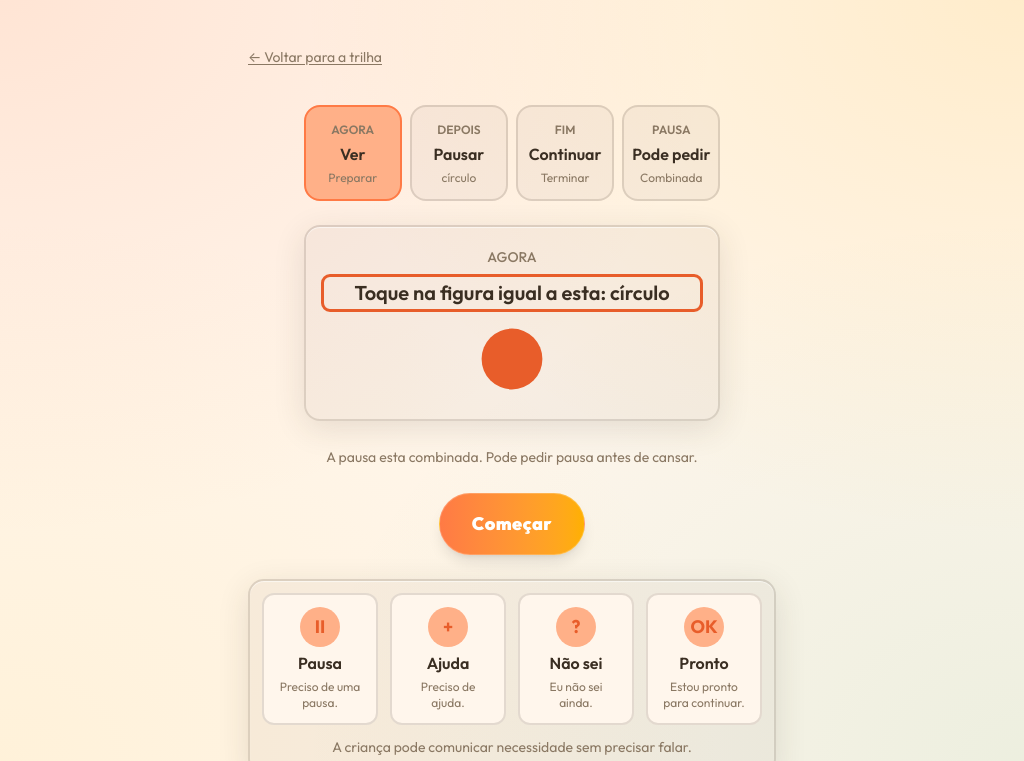
Test case: Atividade › aumenta a ajuda visual quando a crianca pede ajuda
Click the button "Começar": x=512, y=524 x1=439 y1=493 x2=585 y2=555
(page scrolled)
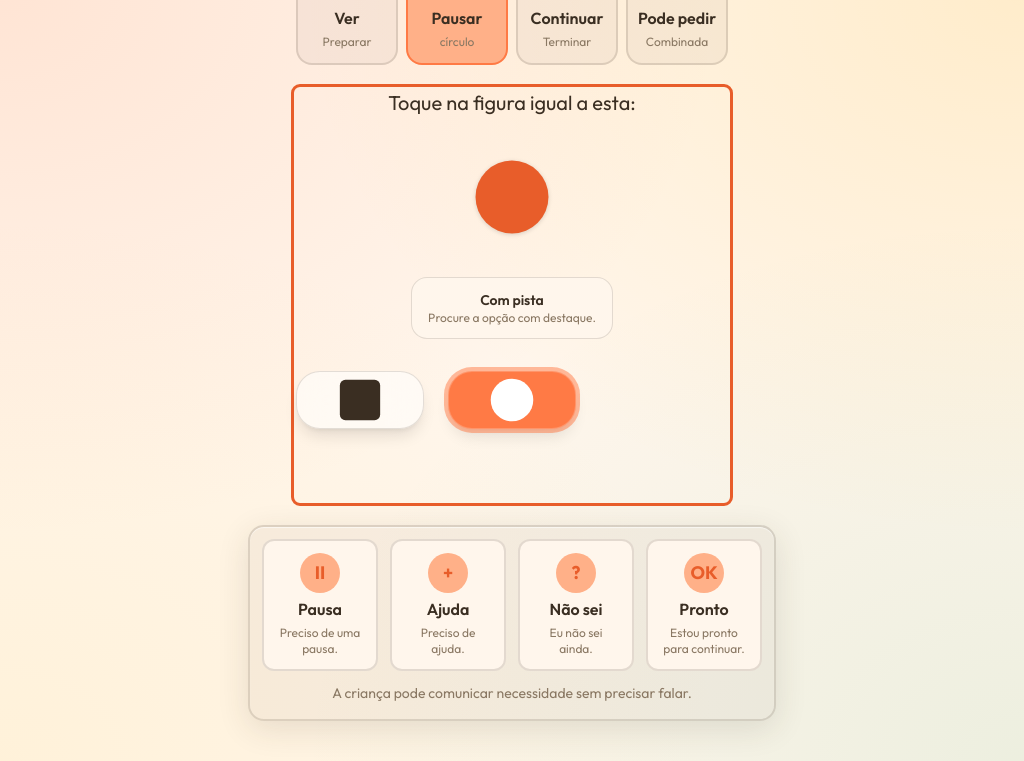
Expected: the text "Escolha esta" is not shown
Expected: the button named "círculo" is shown, x1=448 y1=371 x2=576 y2=429
Click the button named "Ajuda. Preciso de ajuda.": x=448, y=605 x1=390 y1=539 x2=506 y2=671
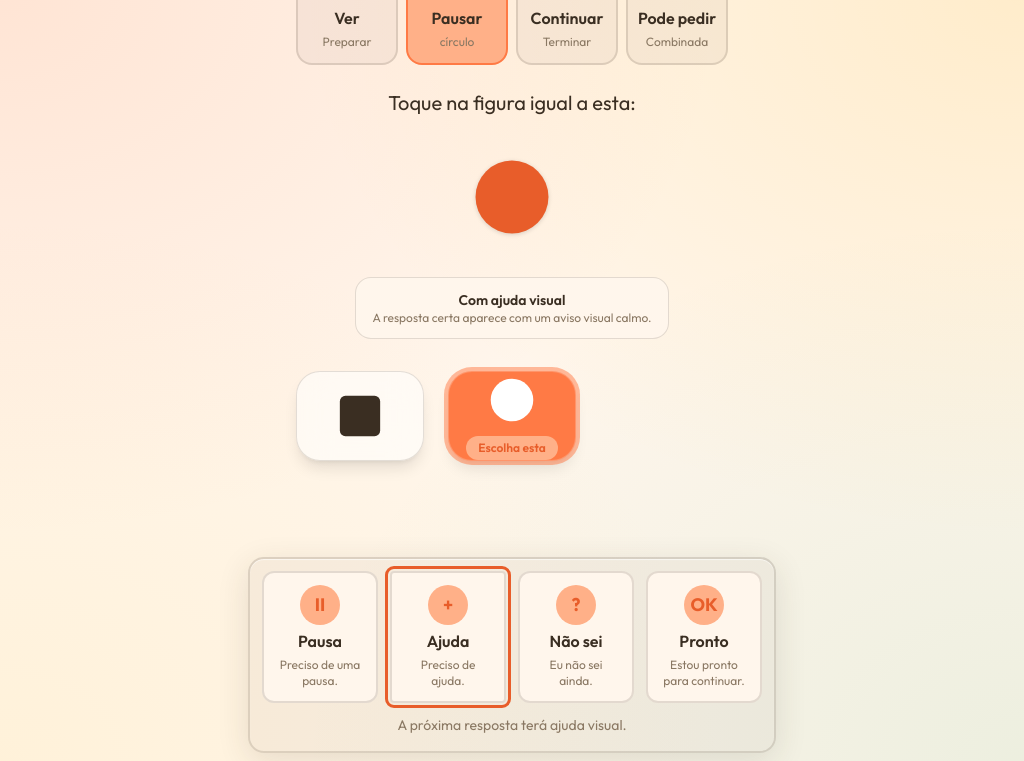
Expected: the button named "círculo. Escolha esta" is shown, x1=448 y1=371 x2=576 y2=461
Expected: the text "A próxima resposta terá ajuda visual." is shown, x1=397 y1=716 x2=627 y2=734
